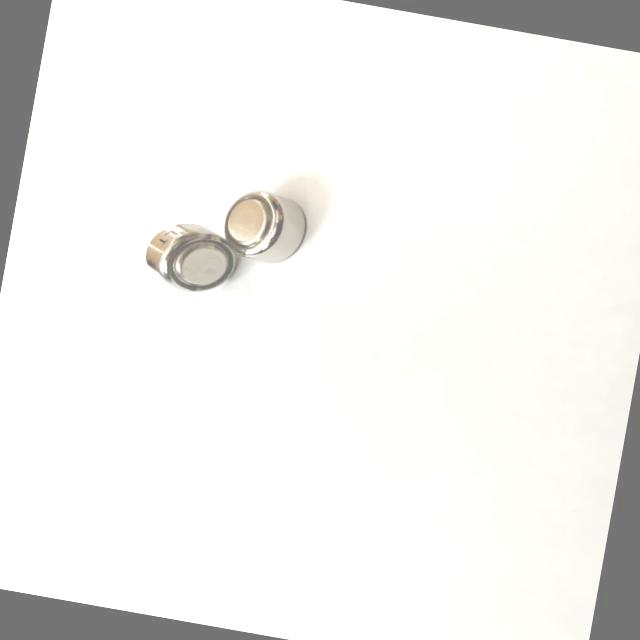COIN: (139, 215, 241, 298), (220, 184, 310, 266)
